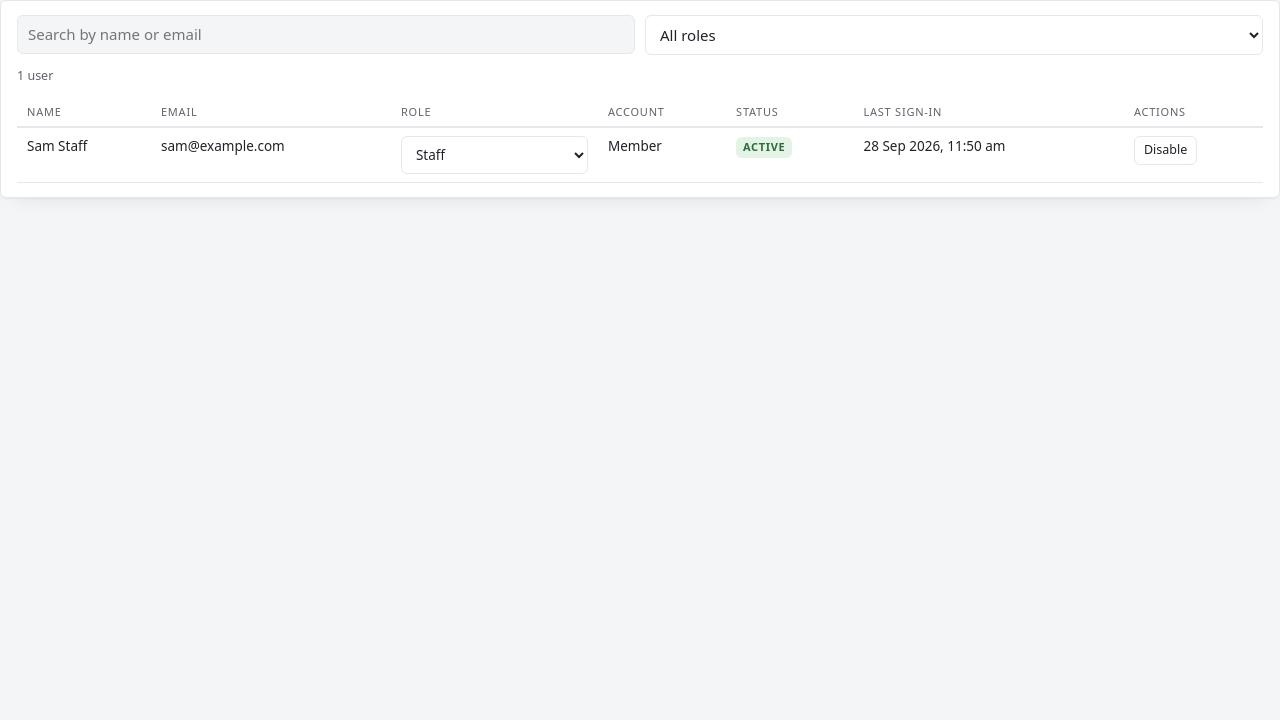
Test: UsersPage changes › changes nothing when the admin cancels
Select "Admin" in the dropdown named "Role for Sam Staff" at [494, 155], box [401,136,588,174]
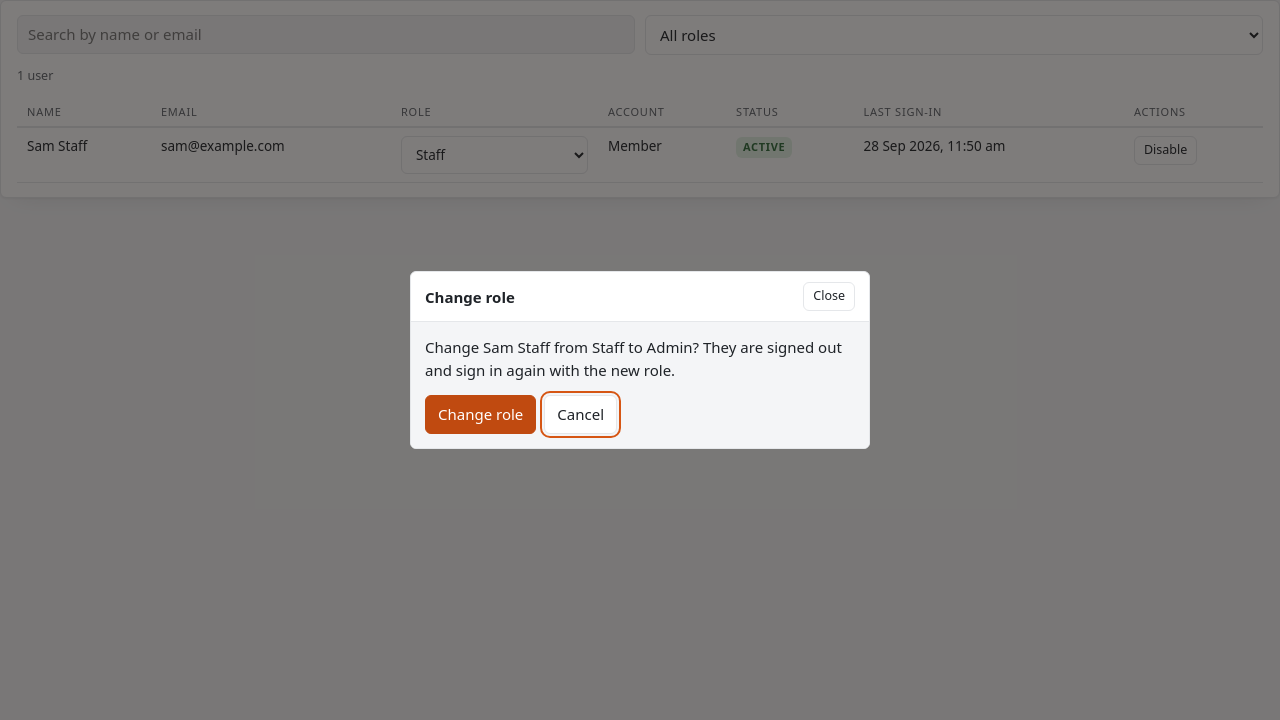
Click the button "Cancel" at [581, 414], box [544,395,617,434]
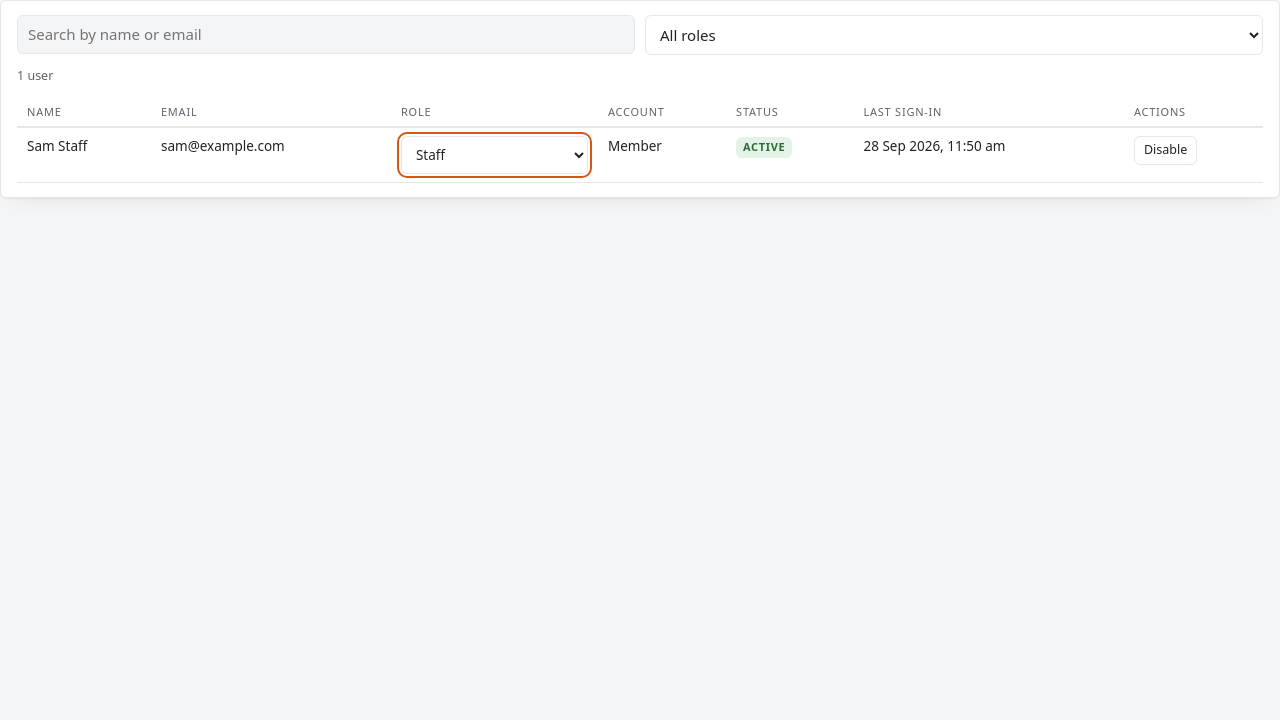
Expected: the dialog is gone
